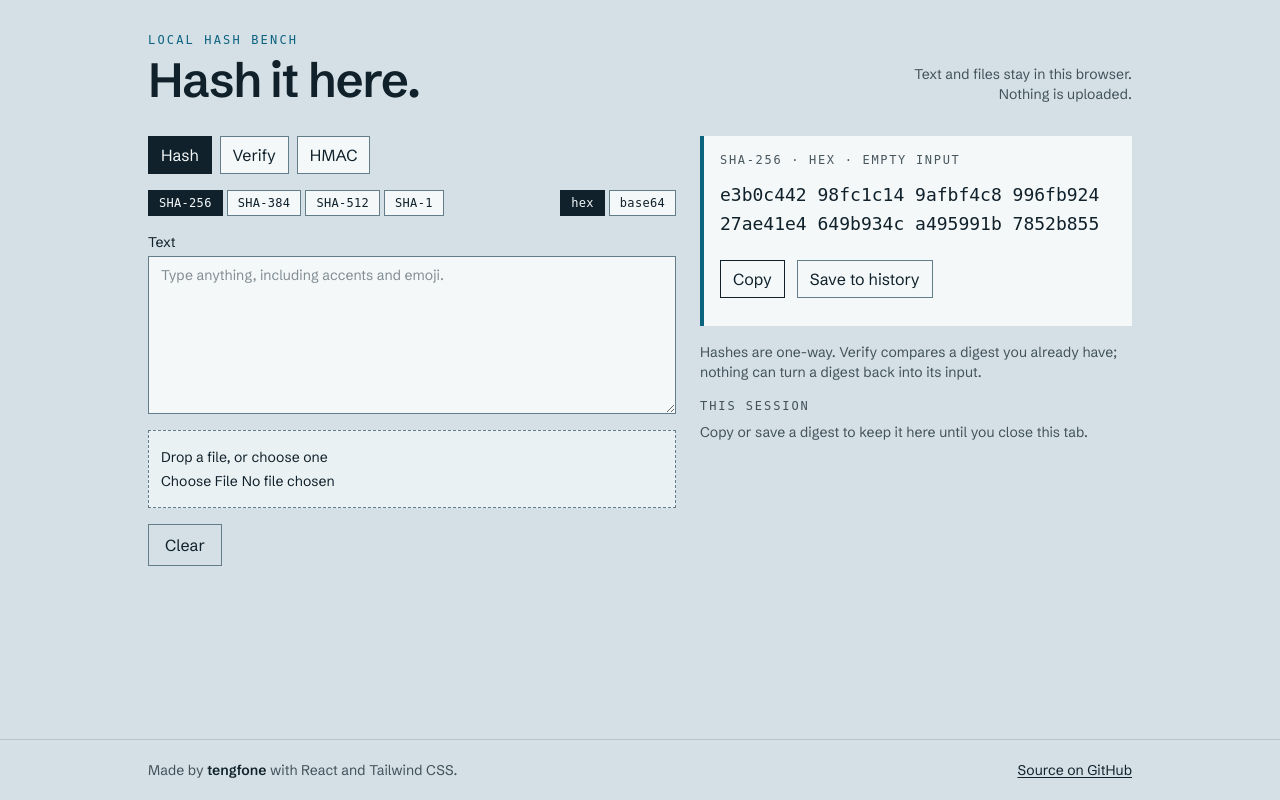
history › keeps HMAC entries as labelled results only
Click the button "HMAC" at [334, 155], box 297,136 -> 370,174
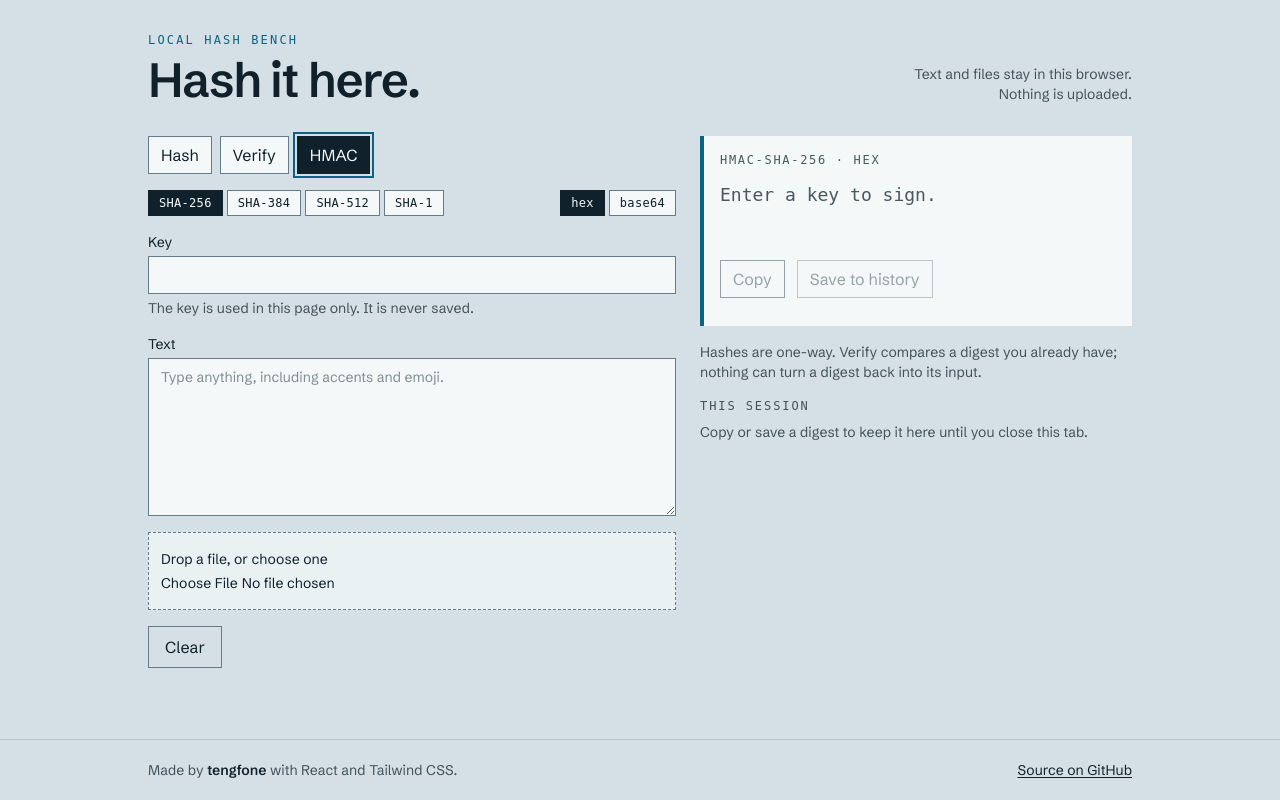
Type "topsecret" into the field labelled "Key The key is used in this page only. It is never saved." at [412, 275], box 148,256 -> 676,294
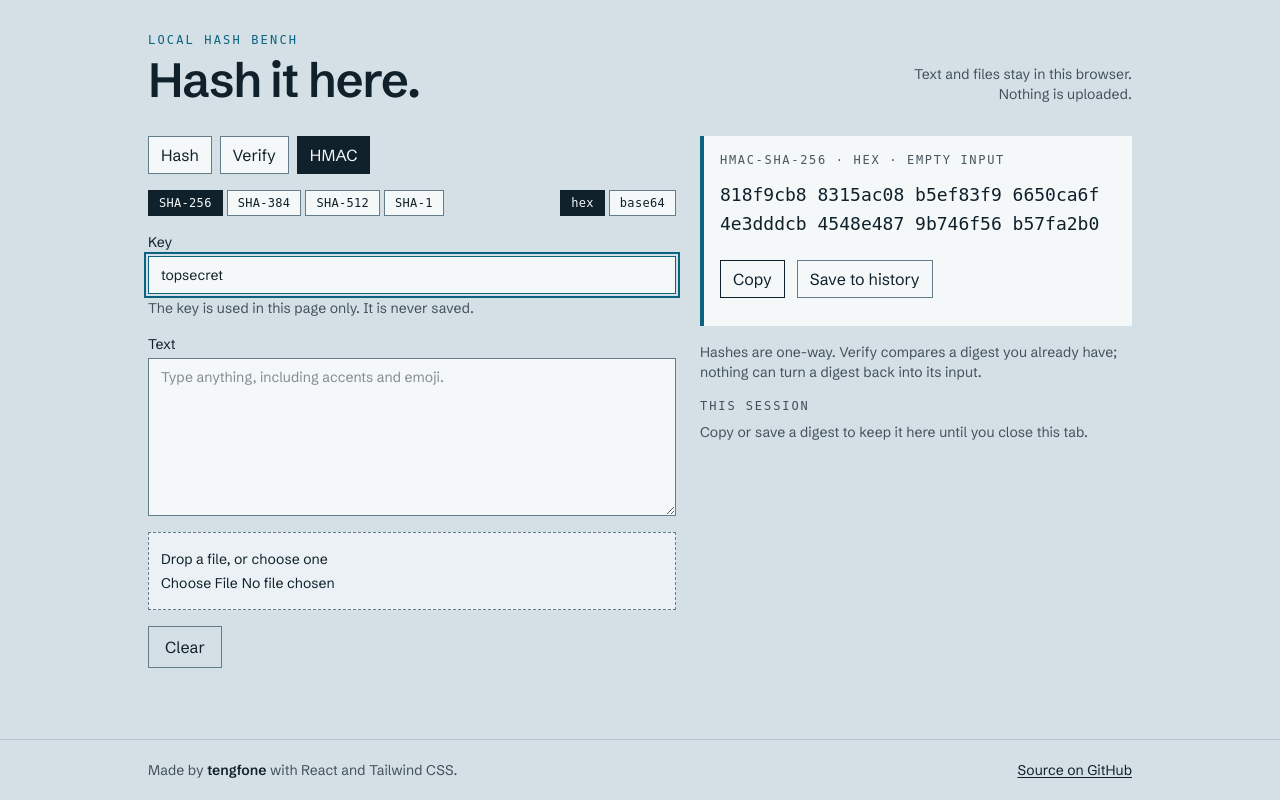
Type "private message" into the text box labelled "Text" at [412, 437], box 148,358 -> 676,516
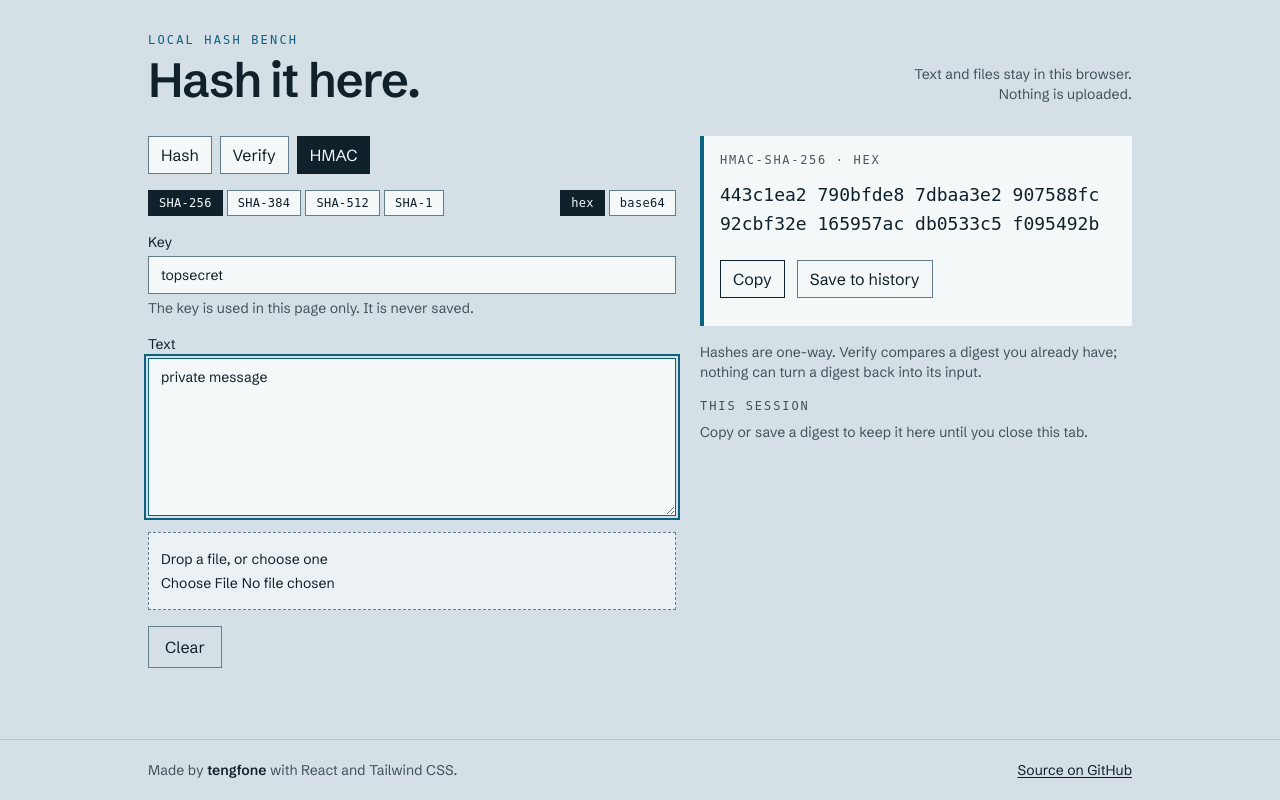
Now the button "Save to history" is enabled
Click the button "Save to history" at [865, 279], box 797,260 -> 933,298
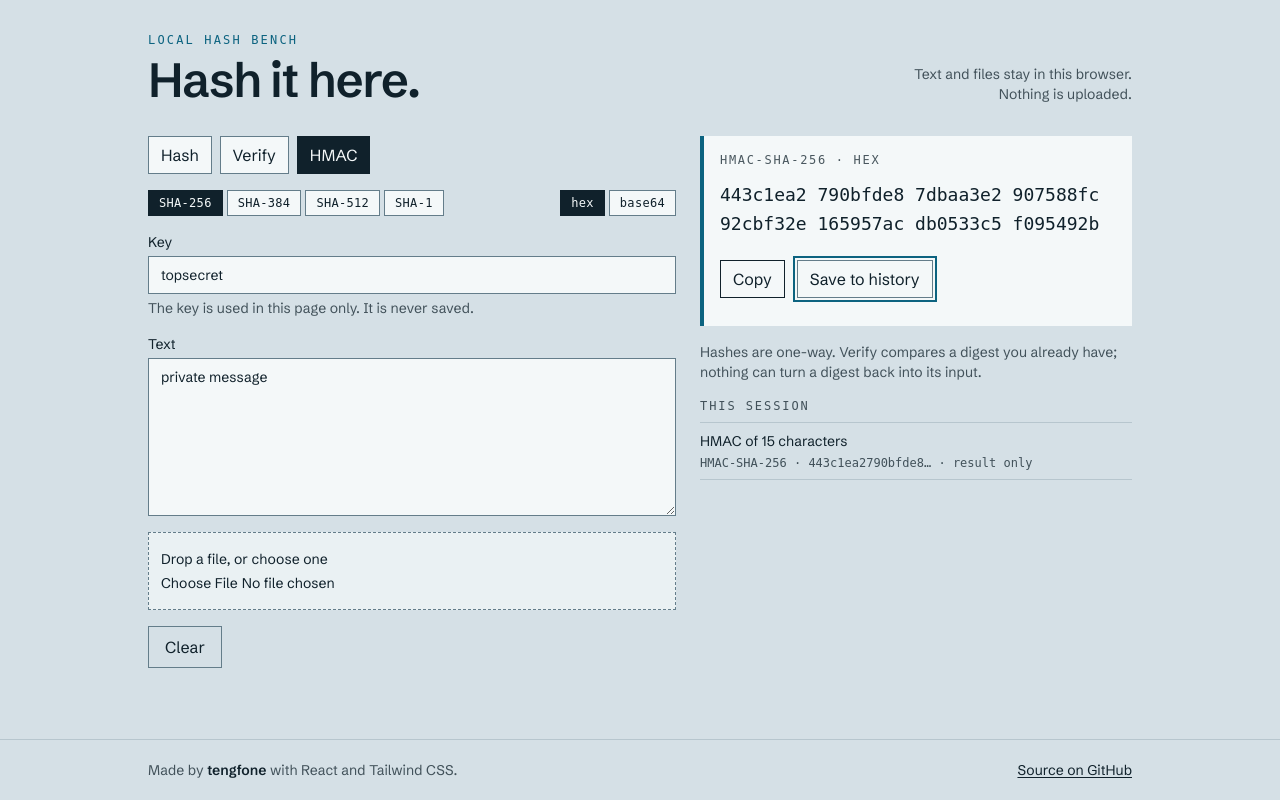
Click the button "HMAC of 15 characters" at [774, 441], box 700,423 -> 1132,479
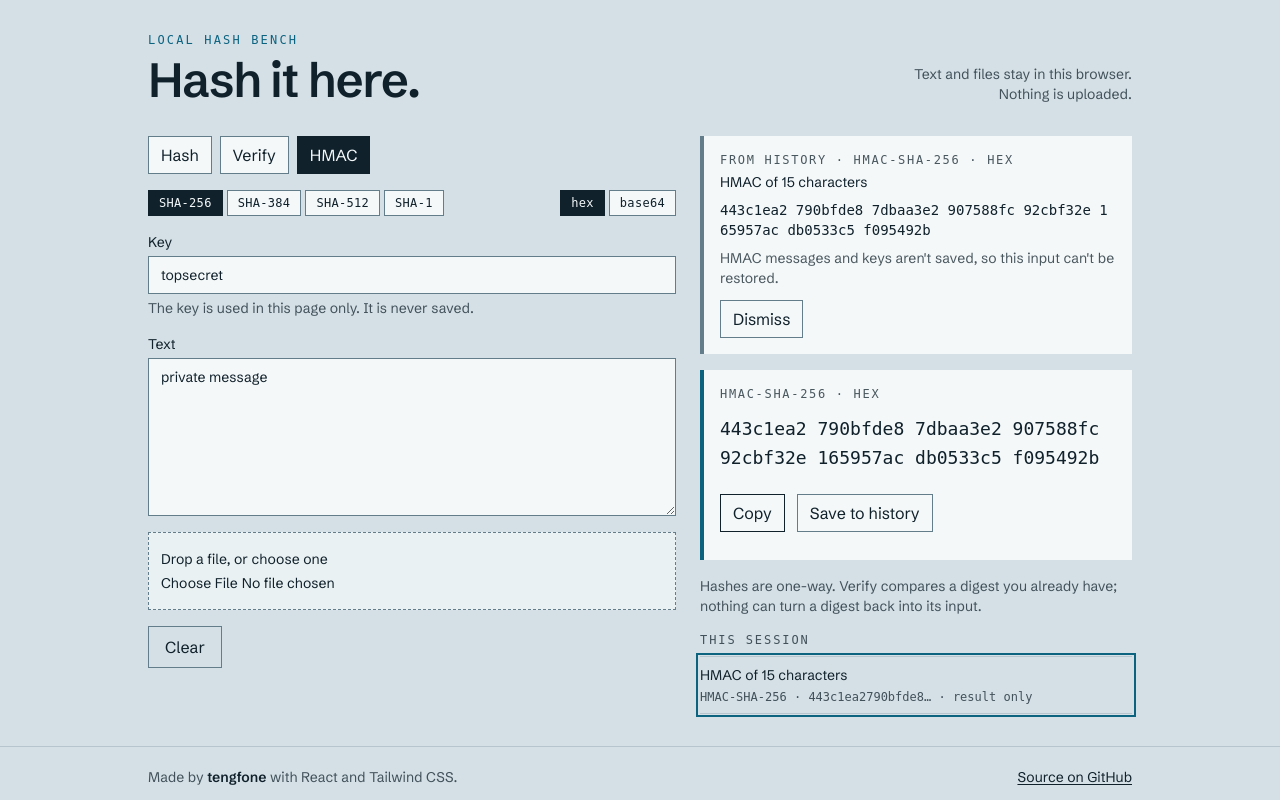
Now the text "can't be restored" is shown, box 720,249 -> 1114,287
